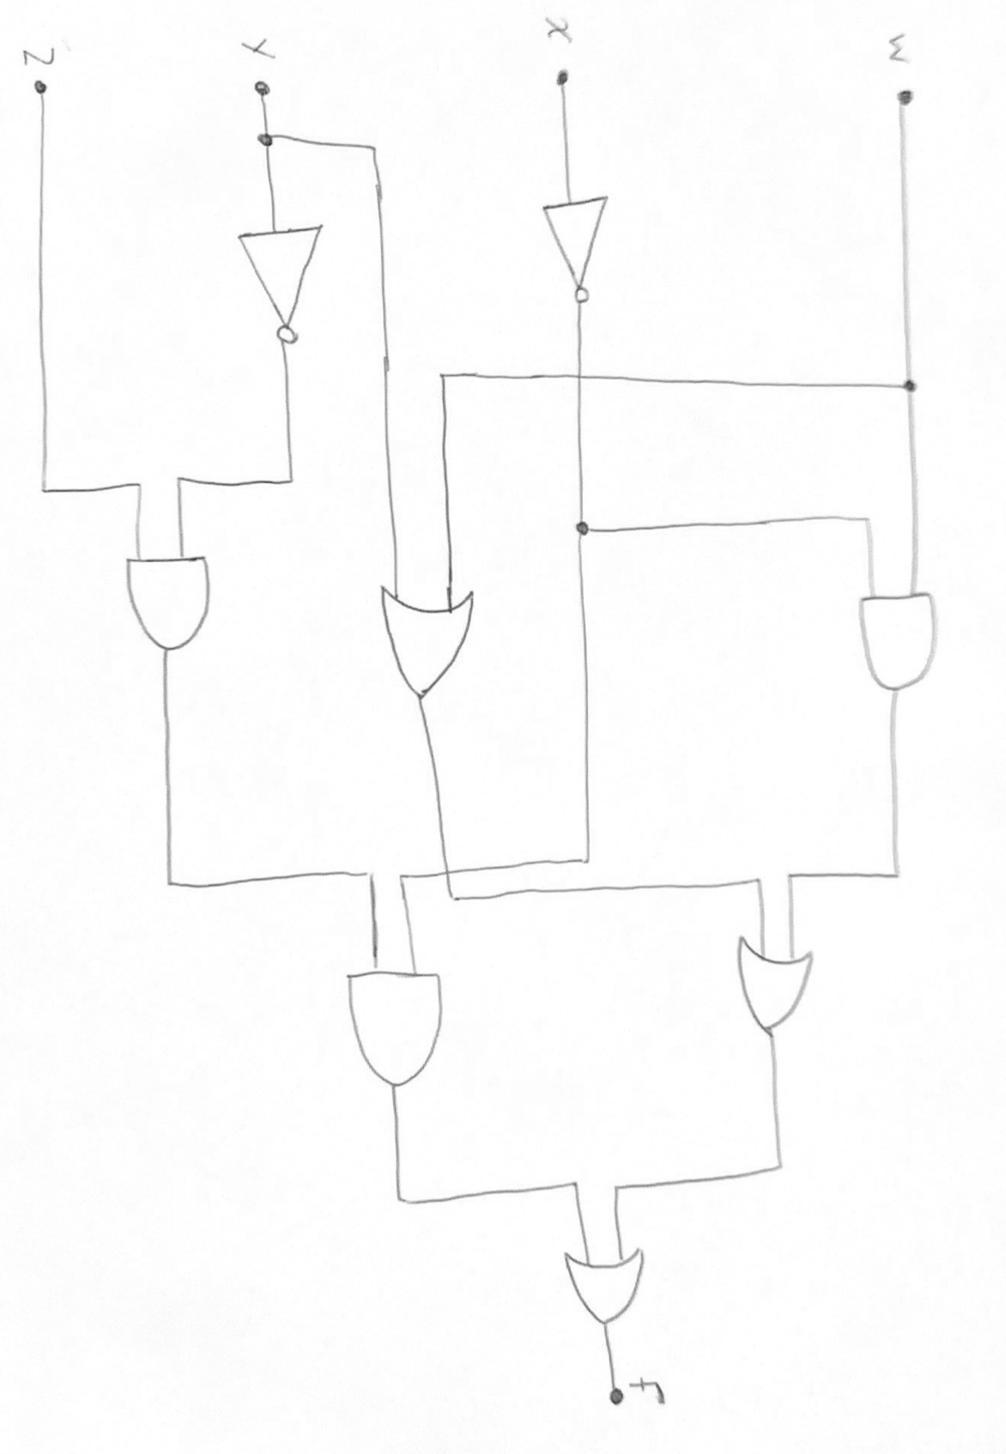AND: (322, 955, 476, 1102), (835, 582, 965, 719), (113, 552, 245, 661)
NOT: (215, 218, 351, 369), (515, 188, 645, 310)
OR: (362, 565, 520, 716), (712, 925, 851, 1047), (540, 1243, 685, 1334)
